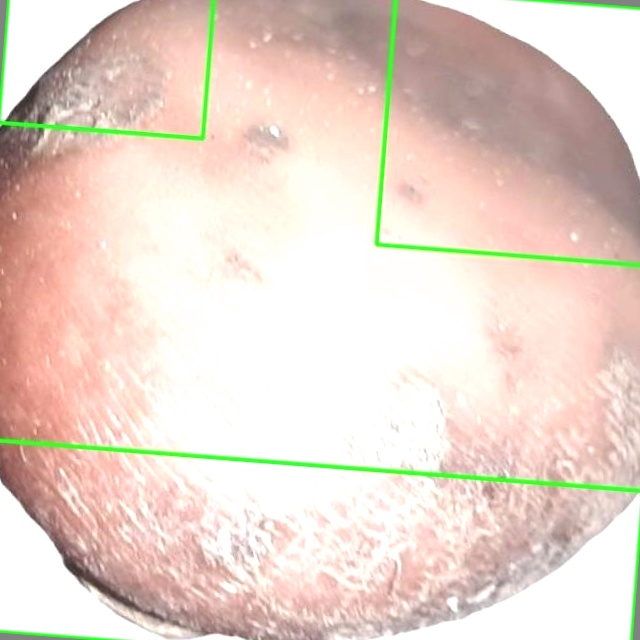Contact Dermatitis: (0, 440, 639, 639), (376, 0, 639, 265), (0, 0, 213, 138)
